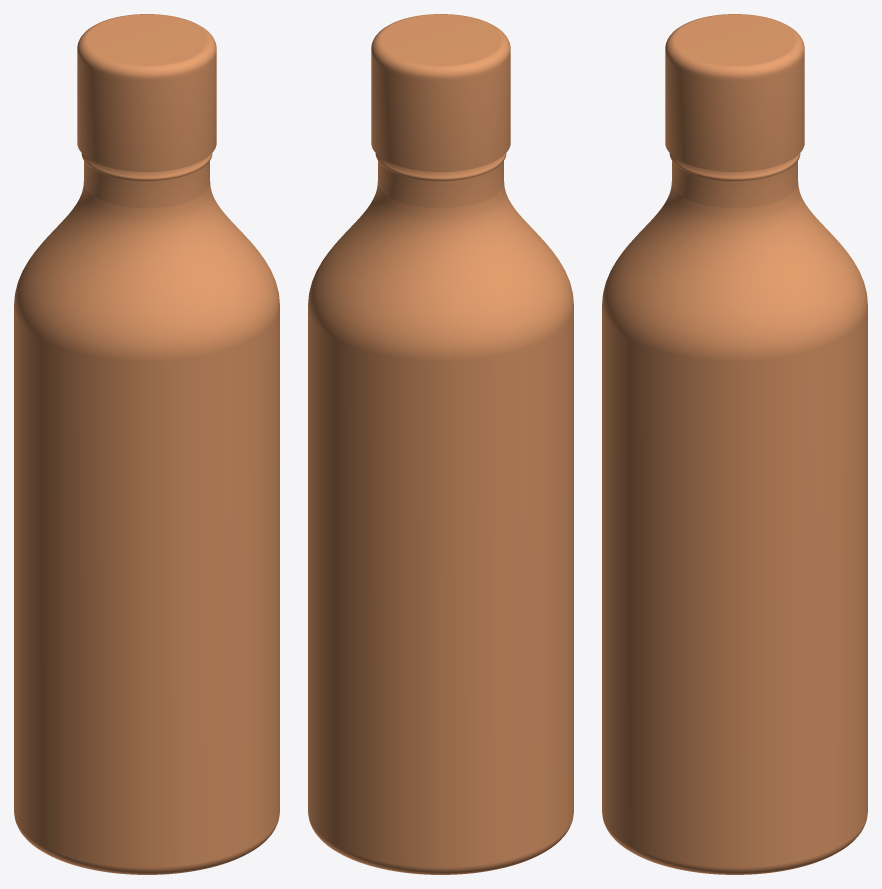
The model's file is premium-handcrafted-hammered-copper-water-bottle-leak-proof-rust-resistant.glb.
3 views of the same model, side by side, from view 1: azimuth 30°, elevation 25°; view 2: azimuth 150°, elevation 25°; view 3: azimuth 270°, elevation 25° (orthographic).
Parts seen in each view (by area): view 1: premium-handcrafted-hammered-copper-water-bottle-leak-proof-; view 2: premium-handcrafted-hammered-copper-water-bottle-leak-proof-; view 3: premium-handcrafted-hammered-copper-water-bottle-leak-proof-.
Part boxes in pixels (x1=…): premium-handcrafted-hammered-copper-water-bottle-leak-proof-: x1=14, y1=14, x2=279, y2=874; premium-handcrafted-hammered-copper-water-bottle-leak-proof-: x1=308, y1=14, x2=573, y2=874; premium-handcrafted-hammered-copper-water-bottle-leak-proof-: x1=602, y1=14, x2=867, y2=874.
Size of the model in its own units: 0.08 by 0.26 by 0.08.
